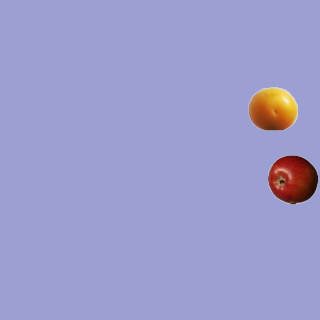Apple Braeburn: (267, 154, 317, 204)
Cherry Wax Yellow: (247, 83, 297, 133)
